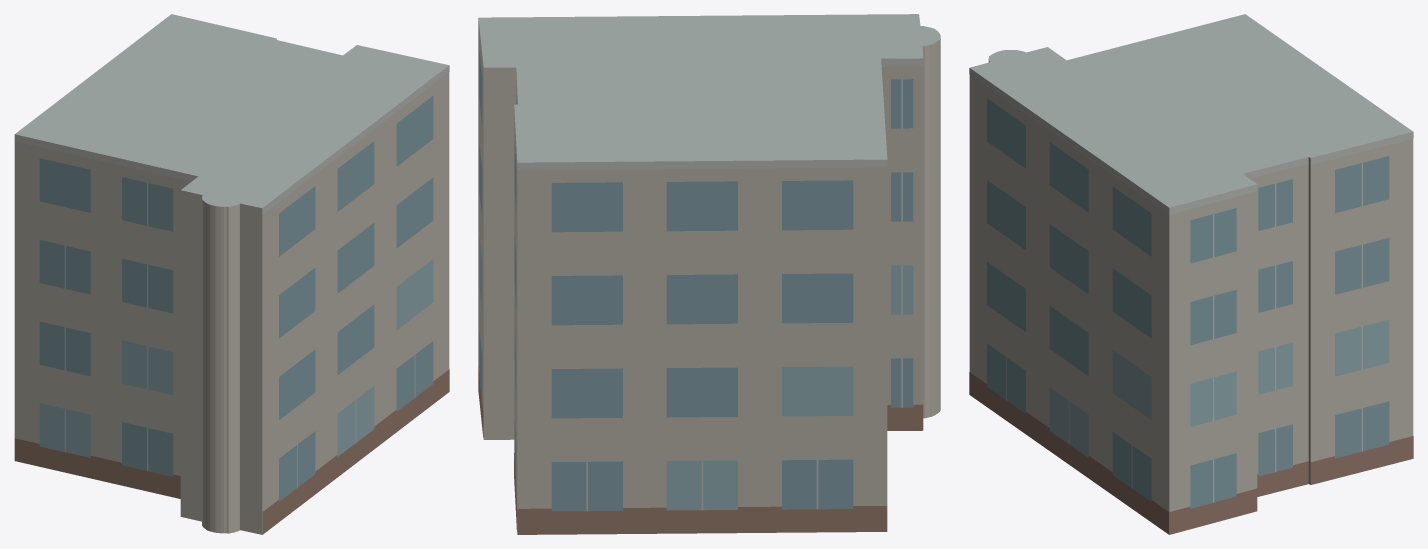
File: survey-upis-32750296.glb
3 renders of one model, left to right at view 1: azimuth 30°, elevation 25°; view 2: azimuth 150°, elevation 25°; view 3: azimuth 270°, elevation 25°, orthographic. The views are drawn at different scales.
Visible parts, largest first — view 1: survey-upis-32750296.tmp; view 2: survey-upis-32750296.tmp; view 3: survey-upis-32750296.tmp.
Part boxes in pixels (bbox=[...]): survey-upis-32750296.tmp: bbox=[14, 14, 449, 534]; survey-upis-32750296.tmp: bbox=[478, 14, 940, 534]; survey-upis-32750296.tmp: bbox=[969, 14, 1413, 534].
Size of the model in its own units: 14.88 by 11.7 by 14.4.
